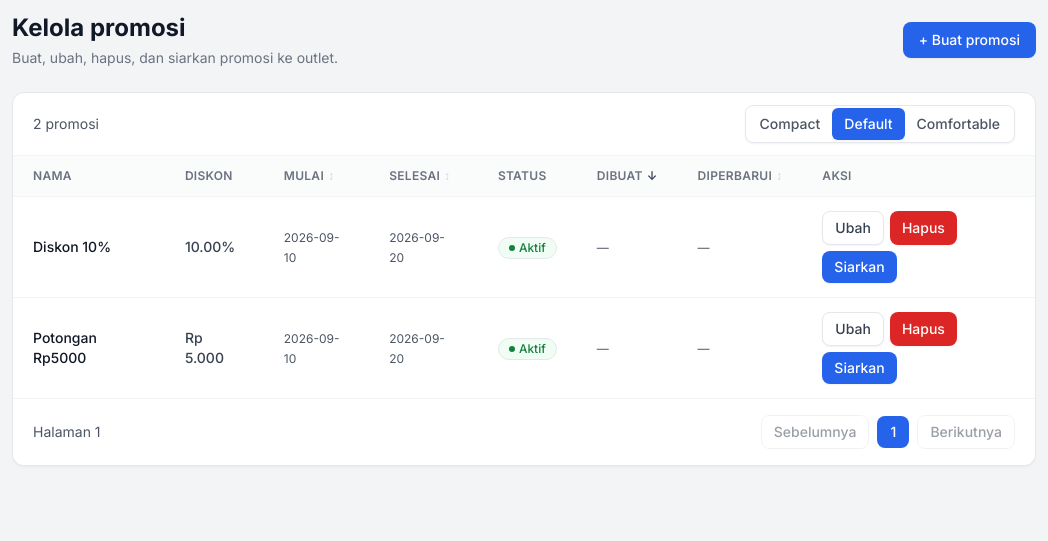
Test: admin promotions page › renders CRUD list with Siarkan button and handles broadcast 404 gracefully
Check: the text "Diskon 10%" is shown, box left=33, top=238, right=111, bottom=255
Check: the text "Potongan Rp5000" is shown, box left=33, top=329, right=97, bottom=366
Step 1. Click the button "Siarkan" in the row of "Diskon 10%" → (860, 267), box left=822, top=251, right=897, bottom=283
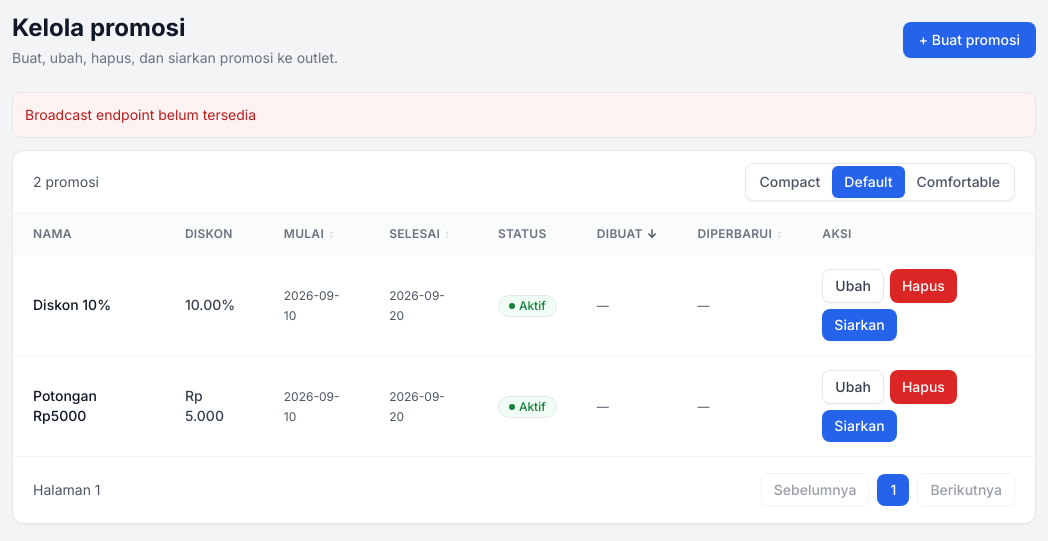
Check: the text "Broadcast endpoint belum tersedia" is shown, box left=12, top=92, right=1036, bottom=138
